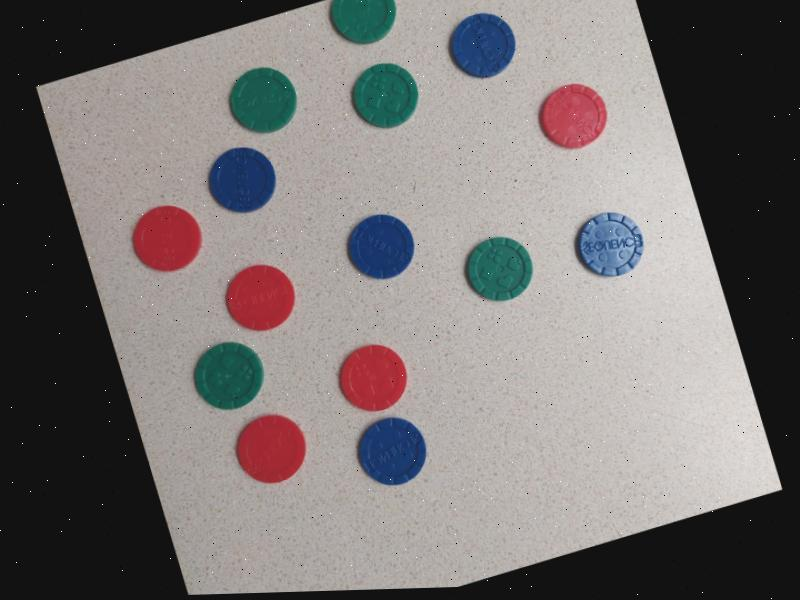Blue_Token: (341, 401, 448, 501), (564, 191, 665, 293), (330, 202, 422, 291), (443, 3, 532, 92)
Green_Token: (444, 203, 547, 320), (191, 130, 296, 241), (178, 323, 281, 426), (334, 45, 437, 143), (218, 54, 312, 144), (308, 0, 417, 61)
Red_Token: (102, 170, 229, 294), (312, 320, 424, 428), (215, 395, 326, 499), (206, 244, 312, 352), (531, 70, 623, 166)
